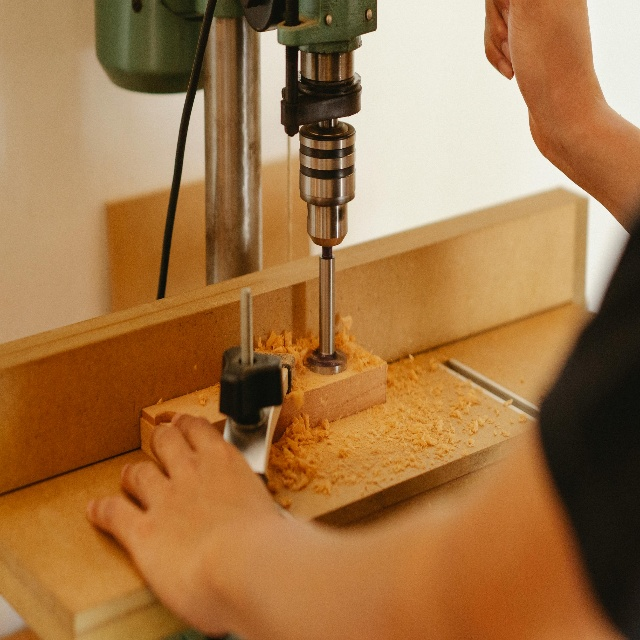Sin_guantes: (85, 411, 284, 638), (483, 0, 594, 167)
